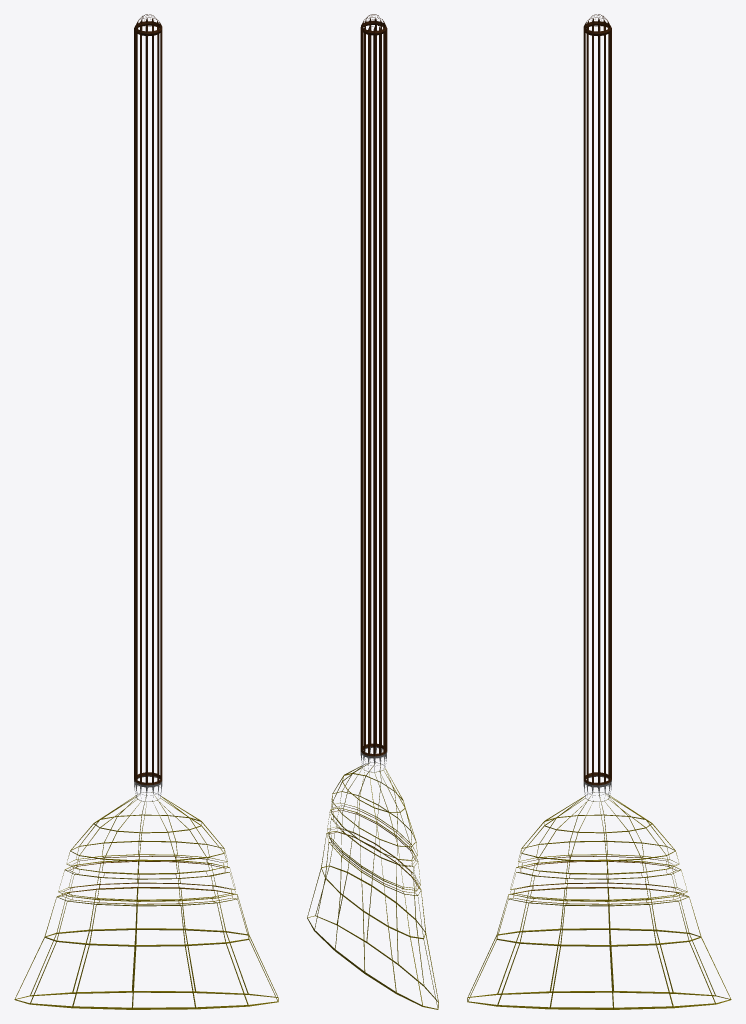
The model's file is broom2_o.glb.
3 views of the same model, side by side, from view 1: azimuth 90°, elevation 25°; view 2: azimuth 210°, elevation 25°; view 3: azimuth 270°, elevation 25° (orthographic). The views are drawn at different scales.
Parts seen in each view (by area): view 1: Cylinder.002; view 2: Cylinder.002; view 3: Cylinder.002.
Part boxes in pixels (x1,y1,x2,y2): Cylinder.002: [14, 14, 278, 1009]; Cylinder.002: [307, 14, 438, 1009]; Cylinder.002: [467, 14, 731, 1009].
Size of the model in its own units: 0.1622 by 3.75 by 0.9096.
